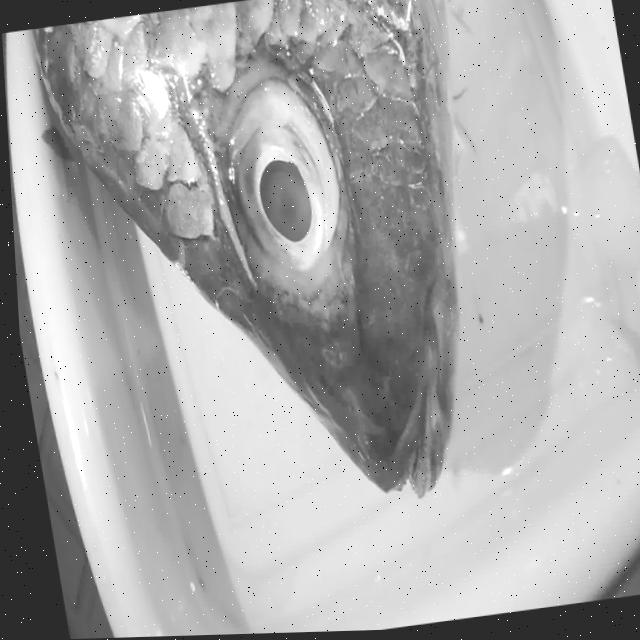Fresh: (202, 26, 383, 365)
